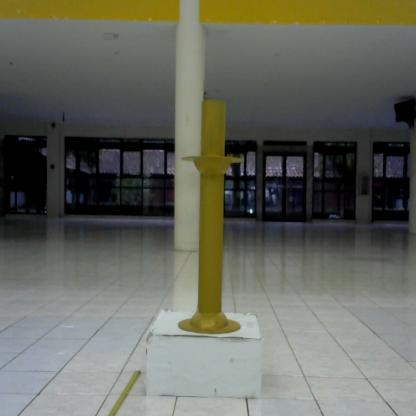pole: (176, 94, 254, 341)
